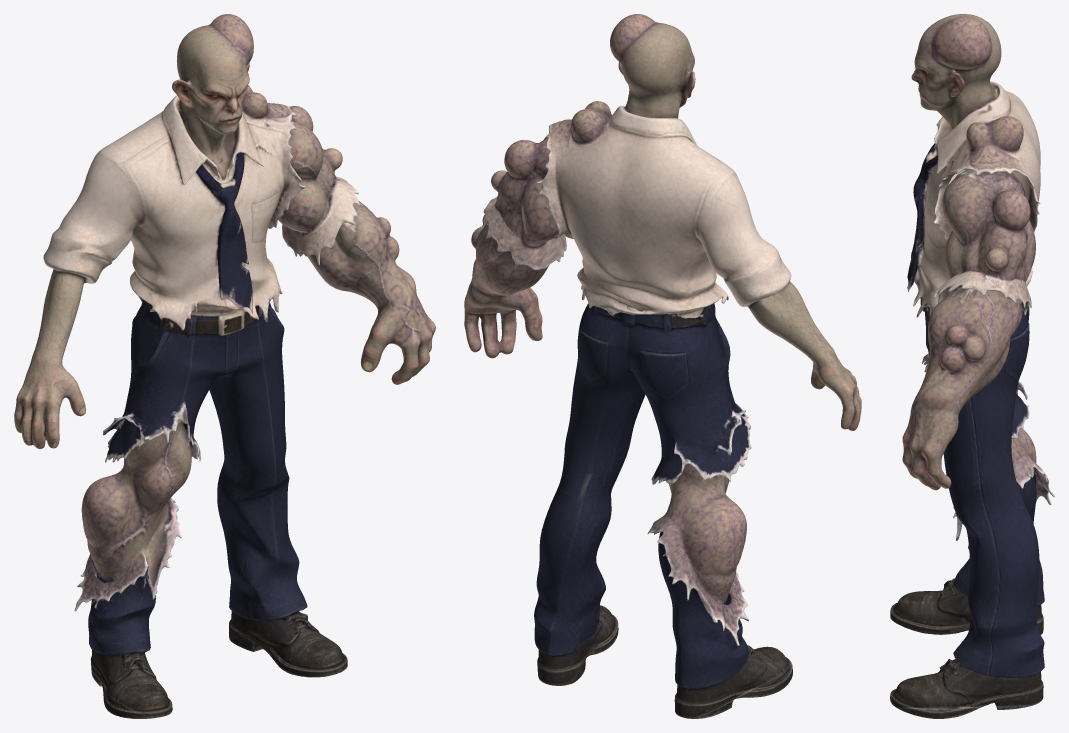
The model's file is Brute.glb.
3 views of the same model, side by side, from view 1: azimuth 30°, elevation 25°; view 2: azimuth 150°, elevation 25°; view 3: azimuth 270°, elevation 25° (orthographic).
Size of the model in its own units: 1.23 by 1.9 by 0.4326.
Materials: 1 (1 with a texture image).
